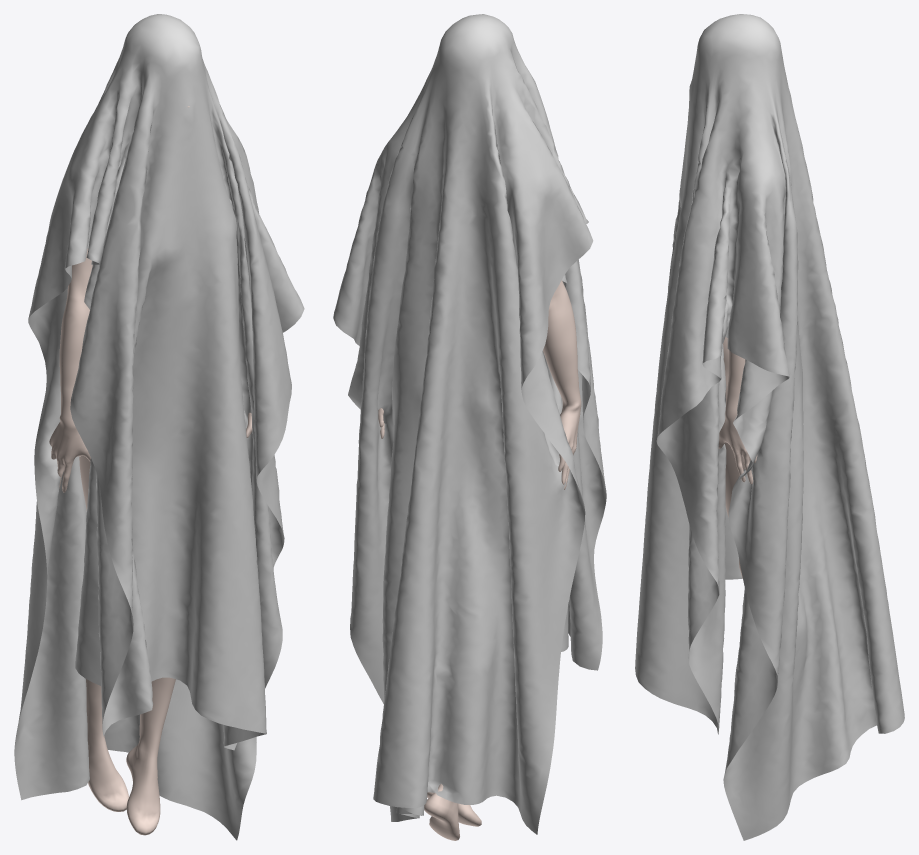
File: cloth-ghost.quads.fbx
3 views of the same model, side by side, from view 1: azimuth 30°, elevation 25°; view 2: azimuth 150°, elevation 25°; view 3: azimuth 270°, elevation 25° (orthographic). The views are drawn at different scales.
Parts seen in each view (by area): view 1: ee_obj_1_Mat_0, ee_obj_1_Mat.1_0; view 2: ee_obj_1_Mat_0, ee_obj_1_Mat.1_0; view 3: ee_obj_1_Mat_0, ee_obj_1_Mat.1_0.
Part boxes in pixels (x1=…): ee_obj_1_Mat_0: x1=14, y1=14, x2=304, y2=840; ee_obj_1_Mat.1_0: x1=49, y1=106, x2=252, y2=835; ee_obj_1_Mat_0: x1=333, y1=14, x2=606, y2=834; ee_obj_1_Mat.1_0: x1=378, y1=280, x2=581, y2=840; ee_obj_1_Mat_0: x1=635, y1=14, x2=904, y2=840; ee_obj_1_Mat.1_0: x1=718, y1=337, x2=757, y2=578.
Bounding box in the file's own units: 57.32 × 188 × 58.34.
